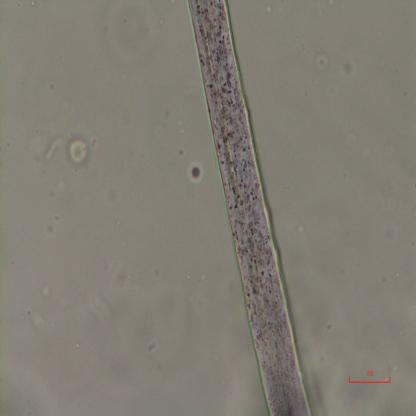Background material: (306, 369, 329, 415), (66, 137, 92, 166), (44, 129, 67, 157), (184, 154, 204, 185), (311, 45, 331, 74), (24, 304, 44, 328), (144, 338, 158, 354), (40, 283, 54, 296), (199, 272, 206, 282)
Microfibre: (186, 0, 312, 415)
